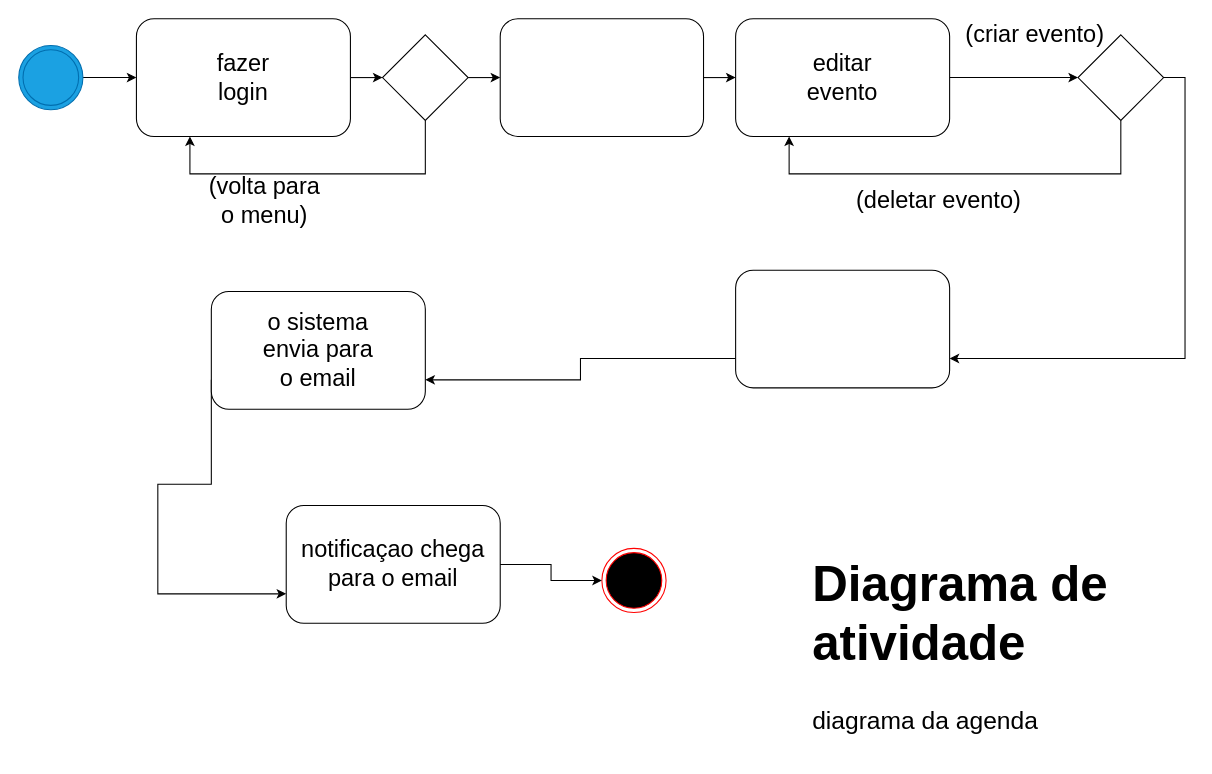
Some shapes in this 1212 by 774 pixel diagram are drawn without their labels. Here are the shapes that lost their labels. From the top down, the centre of each, then its label:
point (601, 77): ver calendario
point (842, 328): confirmar evento
